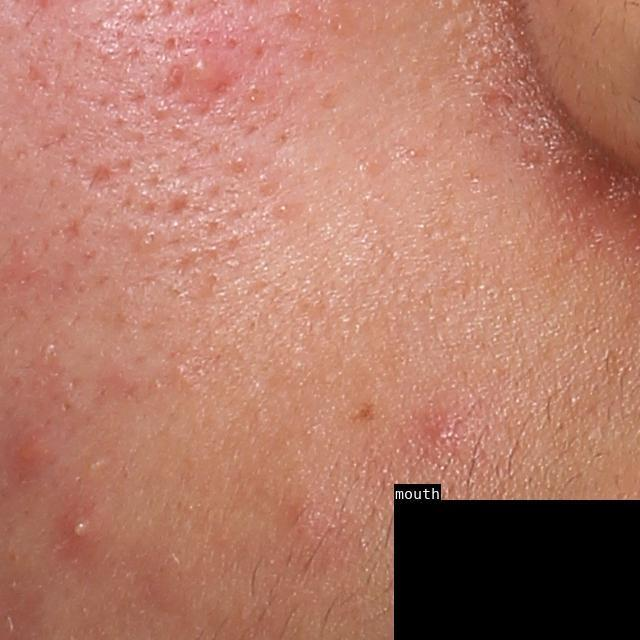nevus: (346, 400, 378, 423)
papule: (281, 494, 331, 550), (12, 428, 54, 474)
pustule: (63, 514, 94, 549)
